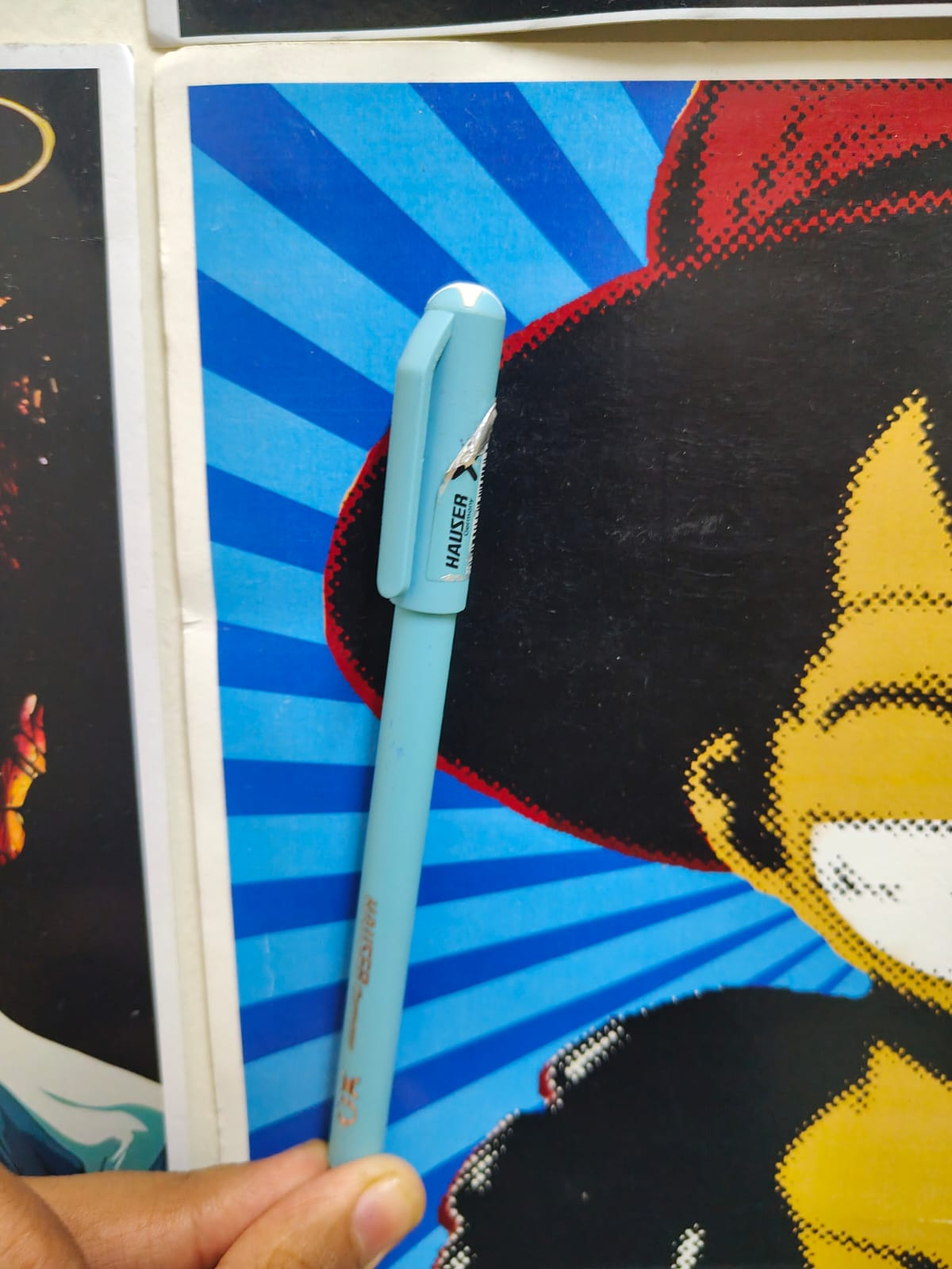pen: (311, 268, 495, 1192)
